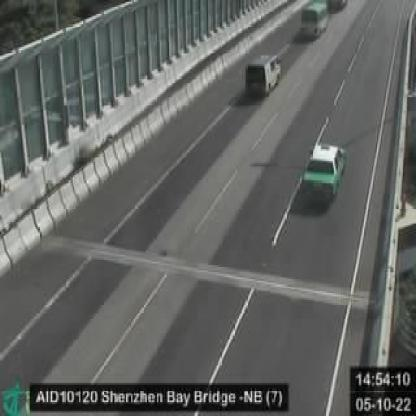Car: (299, 144, 346, 201), (245, 52, 280, 97)
Minibus: (299, 0, 325, 40)
